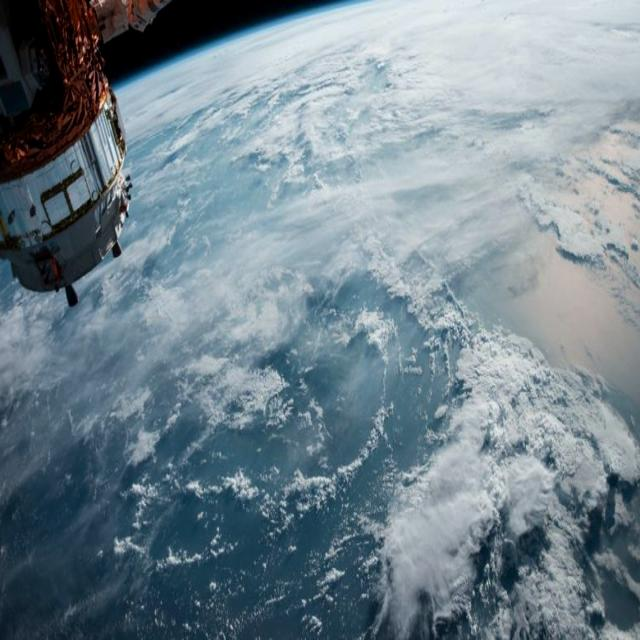medium_debris: (0, 0, 175, 317)
